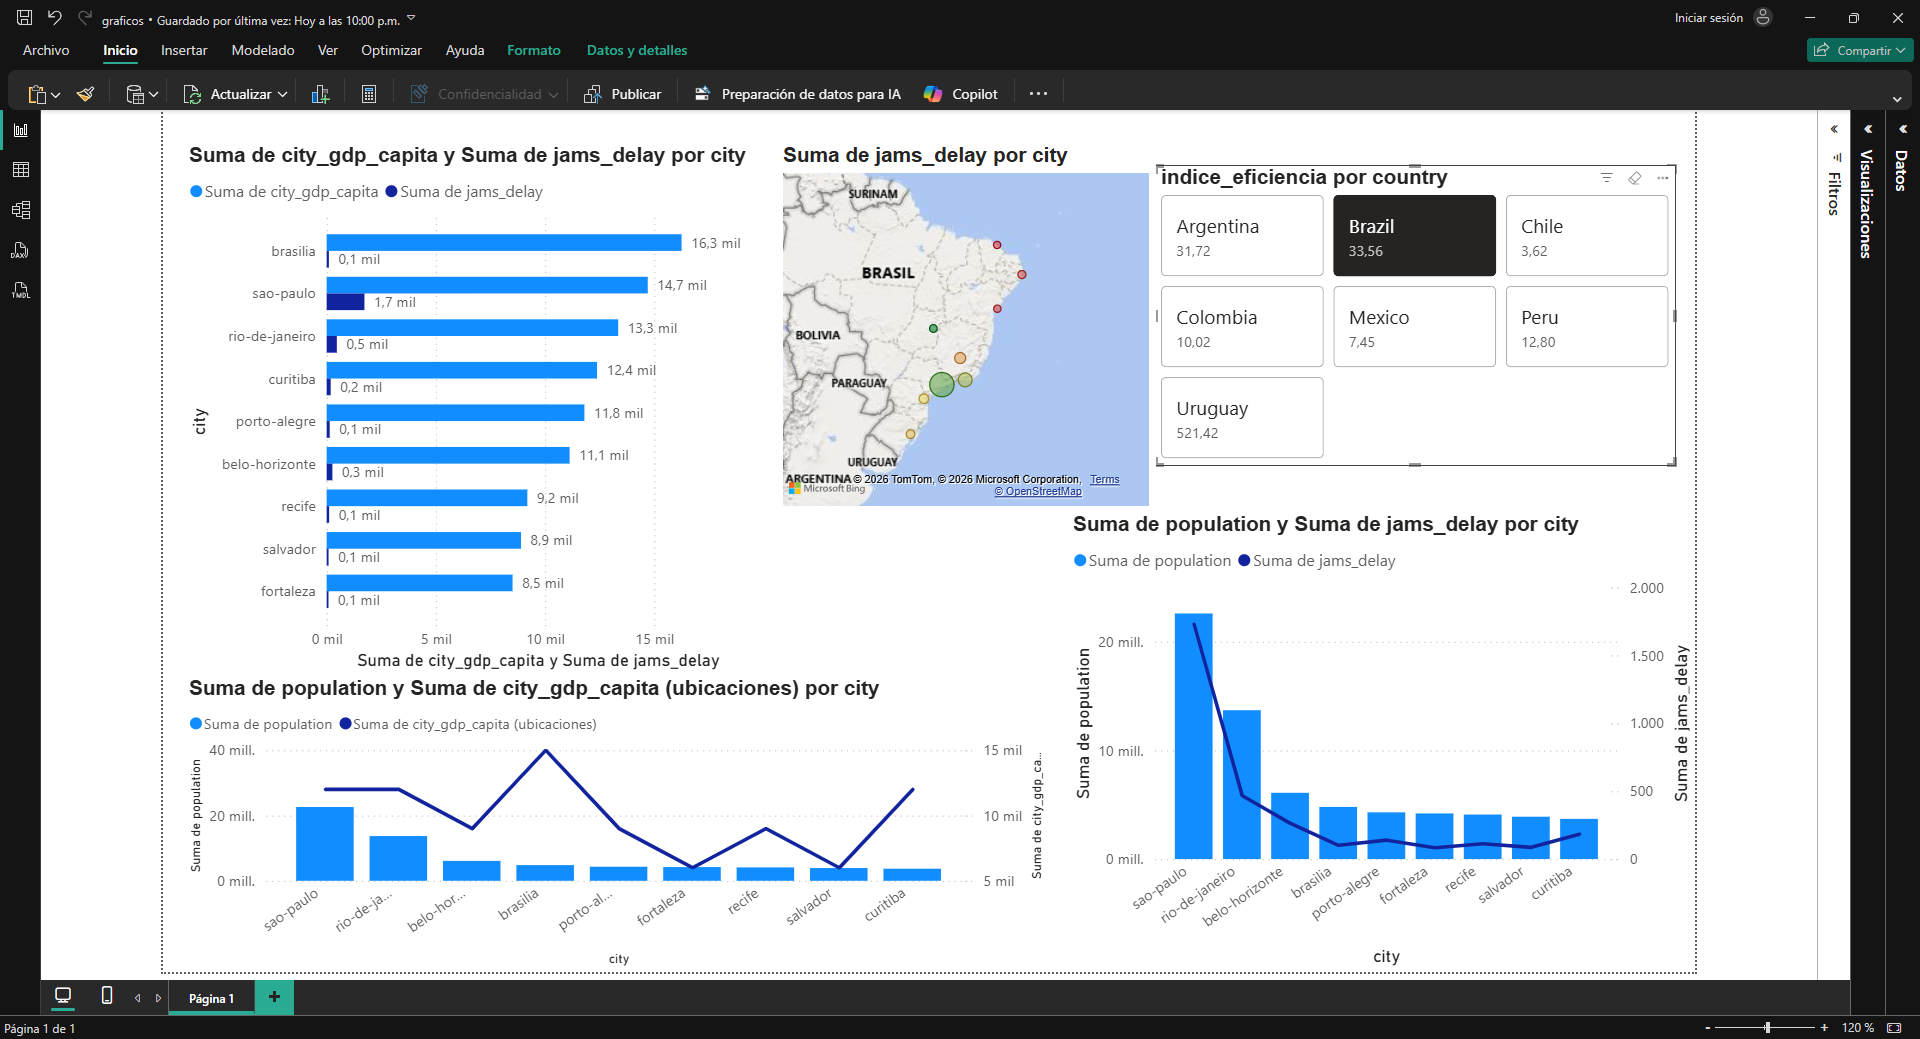

The page's visual inventory and layout, read from the dashboard file:
{"tool":"powerbi","page":{"name":"Página 1","canvas":[1280,720],"ordinal":0},"visuals":[{"type":"clusteredBarChart","title":"Relación PIB vs. Congestión","fields":{"Category":["movilidad_economica_final.city"],"Y":["Sum(movilidad_economica_final.city_gdp_capita)","Sum(movilidad_economica_final.jams_delay)"]},"box":[22.4,70.7,432.1,401.9],"z":0},{"type":"lineStackedColumnComboChart","title":"Densidad Poblacional vs. Retrasos","fields":{"Category":["movilidad_economica_final.city"],"Y":["Sum(movilidad_economica_final.population)"],"Y2":["Sum(movilidad_economica_final.jams_delay)"]},"box":[800.4,400.2,463.2,320],"z":1000},{"type":"lineStackedColumnComboChart","title":"Relación PIB vs. Densidad poblacional","fields":{"Category":["movilidad_economica_final.city"],"Y2":["Sum(movilidad_economica_final.city_gdp_capita (ubicaciones))"],"Y":["Sum(movilidad_economica_final.population)"]},"box":[22.8,479.8,771.3,230.3],"z":2000},{"type":"advancedSlicerVisual","title":"Indice de ingresos/congestión","fields":{"Values":["movilidad_economica_final.country"],"Label":["movilidad_economica_final.indice_eficiencia"]},"box":[800.2,70.9,463.1,296.8],"z":3000},{"type":"map","fields":{"Category":["movilidad_economica_final.city"],"Size":["Sum(movilidad_economica_final.jams_delay)"]},"box":[461.4,70.9,332.7,392.2],"z":4000},{"type":"textbox","title":"Análisis de Impacto Económico: Movilidad Urbana 2024","box":[336.6,19.2,702.5,37.6],"z":5000}]}

Visuals, with their boxes on the page's 1280x720 design canvas (x1, y1, x2, y2). These are canvas units, not pixel positions in the 1920x1039 screenshot, which may show the page scaled, cropped or inside an application window:
"Relación PIB vs. Congestión" clusteredBarChart: [22, 71, 454, 473]
"Densidad Poblacional vs. Retrasos" lineStackedColumnComboChart: [800, 400, 1264, 720]
"Relación PIB vs. Densidad poblacional" lineStackedColumnComboChart: [23, 480, 794, 710]
"Indice de ingresos/congestión" advancedSlicerVisual: [800, 71, 1263, 368]
map - movilidad_economica_final.city x Sum(movilidad_economica_final.jams_delay): [461, 71, 794, 463]
"Análisis de Impacto Económico: Movilidad Urbana 2024" textbox: [337, 19, 1039, 57]
